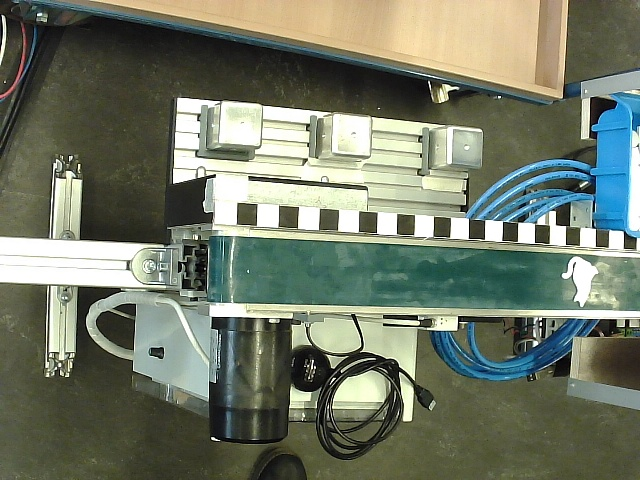cat: (561, 256, 599, 308)
